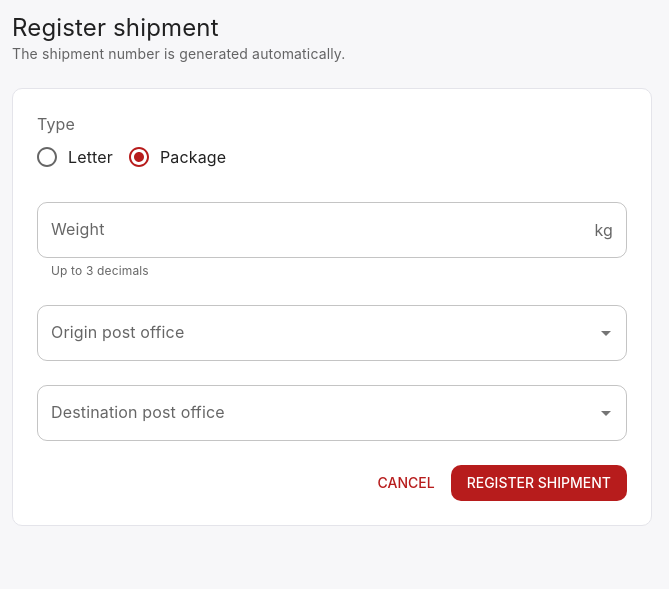
Test case: ShipmentFormPage › validates before submitting
The image size is (669, 589).
Click the button "Register shipment" at (539, 483), box [451,465,627,501]
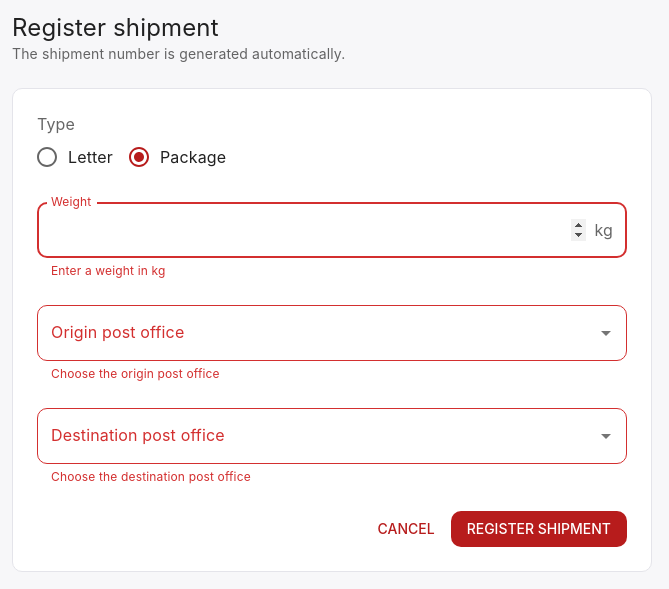
expect the text "Enter a weight in kg" is shown: met, box [51,263,165,278]
expect the text "Choose the origin post office" is shown: met, box [51,366,220,381]
